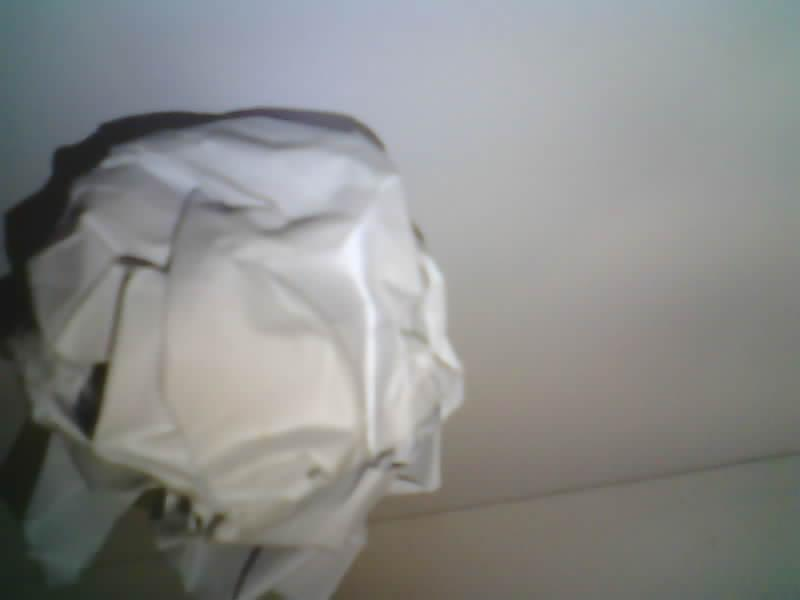biodegradable: (0, 111, 462, 599)
